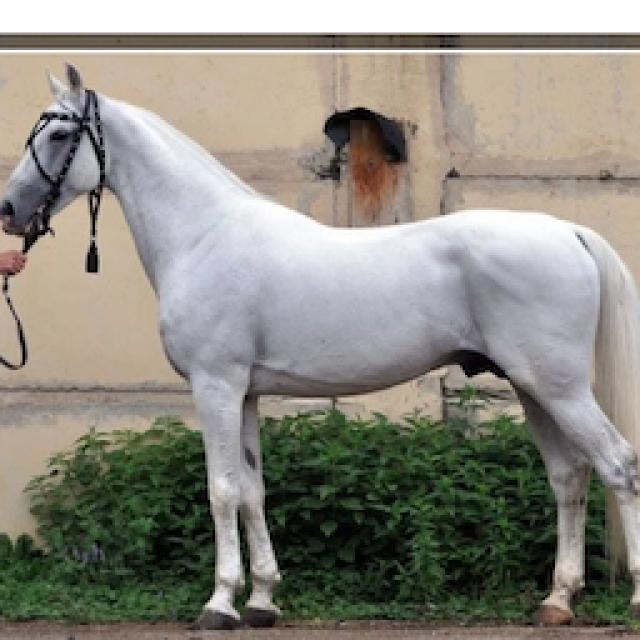Horse: (0, 58, 638, 632)
